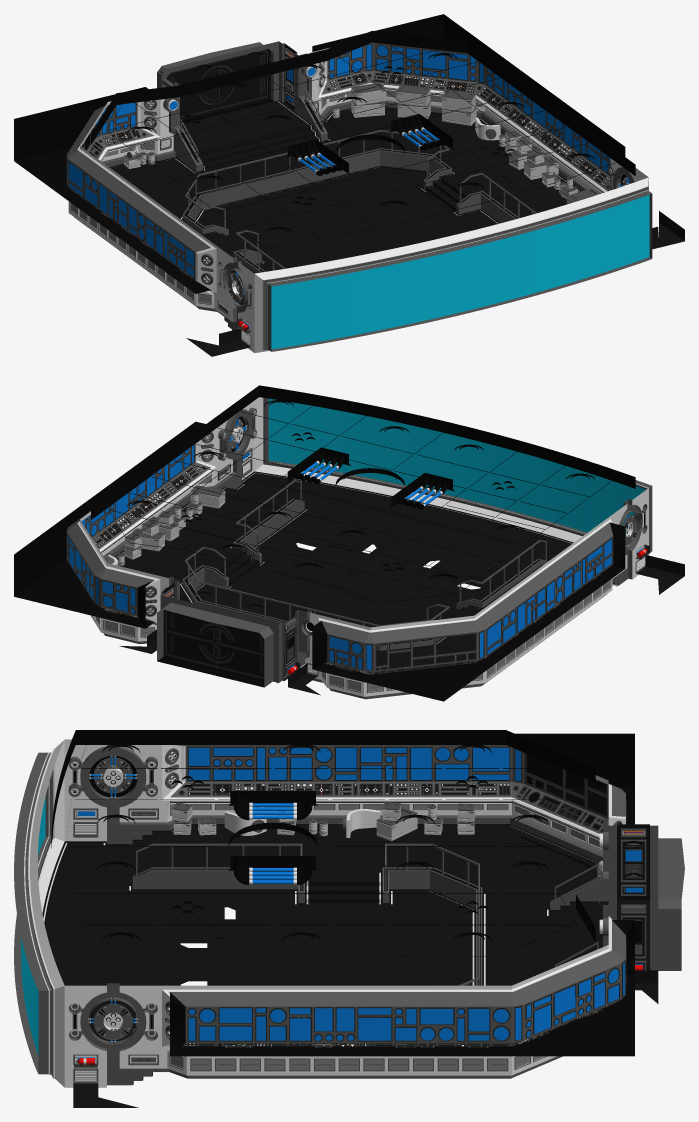
The model's file is BridgeV74.fbx.
The picture shows the model from 3 angles, top to bottom: view 1: azimuth 30°, elevation 25°; view 2: azimuth 150°, elevation 25°; view 3: azimuth 270°, elevation 25°; orthographic projection. The views are drawn at different scales.
Parts seen in each view (by area): view 1: Bridge, BridgeBackgroundObjects, BridgeDoor; view 2: Bridge, BridgeDoor, BridgeBackgroundObjects; view 3: Bridge, BridgeBackgroundObjects, BridgeFloorLightStrip.
Part boxes in pixels (x1=…): Bridge: x1=14, y1=14, x2=684, y2=356; BridgeBackgroundObjects: x1=124, y1=82, x2=600, y2=292; BridgeDoor: x1=166, y1=48, x2=270, y2=120; Bridge: x1=14, y1=385, x2=684, y2=701; BridgeDoor: x1=163, y1=610, x2=264, y2=680; BridgeBackgroundObjects: x1=107, y1=485, x2=225, y2=611; Bridge: x1=14, y1=730, x2=684, y2=1107; BridgeBackgroundObjects: x1=172, y1=802, x2=602, y2=1045; BridgeFloorLightStrip: x1=43, y1=825, x2=599, y2=1087.
Size of what is drawn, in the model's own units: 21.11 by 4.55 by 20.25.
